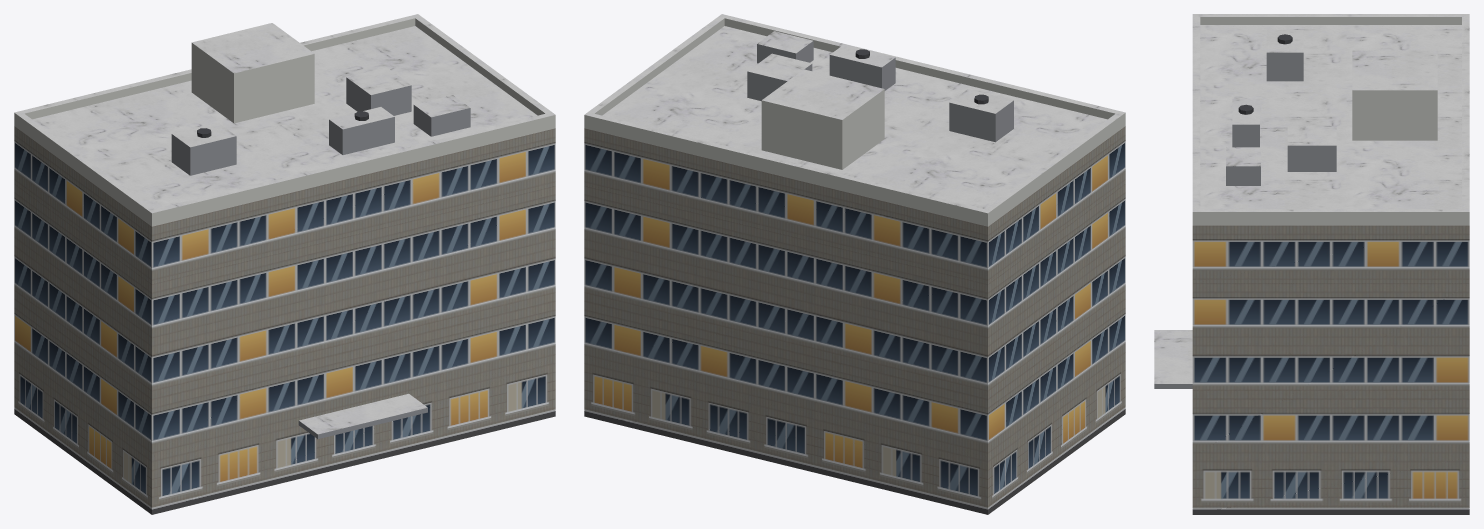
The model's file is c_office.glb.
The picture shows the model from 3 angles, left to right: view 1: azimuth 30°, elevation 25°; view 2: azimuth 150°, elevation 25°; view 3: azimuth 270°, elevation 25°; orthographic projection.
Parts seen in each view (by area): view 1: House; view 2: House; view 3: House.
Boxes of the visible parts, x1,y1,x2,y2 form: House: (14,14,555,514); House: (584,14,1125,514); House: (1154,14,1469,514).
Size of the model in its own units: 22 by 17.9 by 14.8.
Materials: 3 (3 with a texture image).
